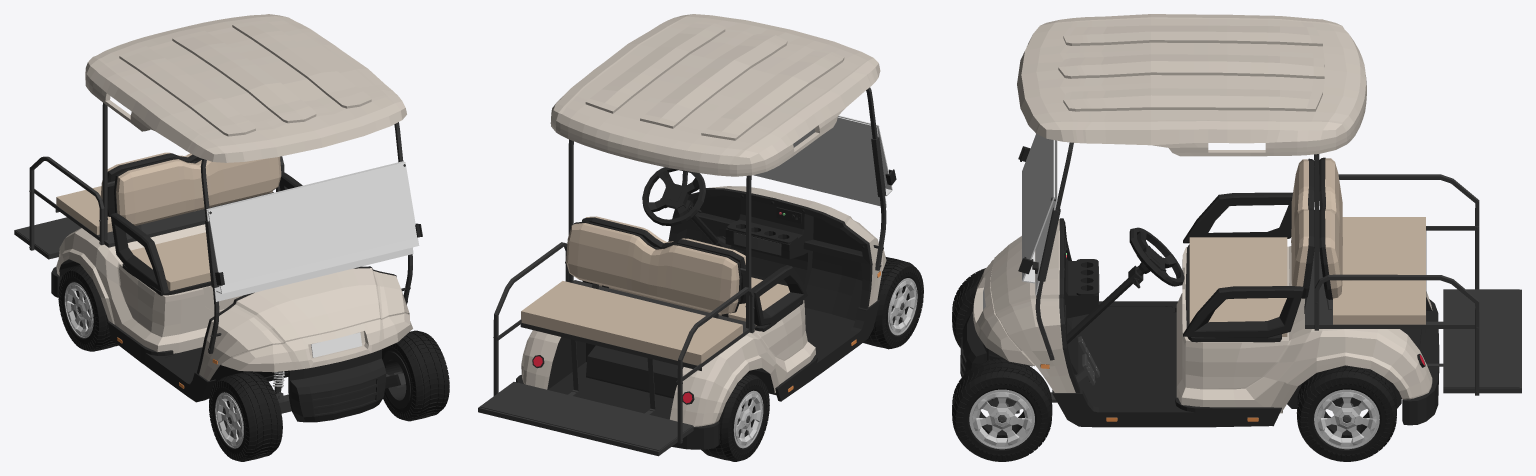
File: Electric_Cart.fbx
3 views of the same model, side by side, from view 1: azimuth 30°, elevation 25°; view 2: azimuth 150°, elevation 25°; view 3: azimuth 270°, elevation 25° (orthographic). The views are drawn at different scales.
Parts seen in each view (by area): view 1: Golf Cart, Wheels_1, Wheels_2; view 2: Golf Cart, Wheels_1, Wheels_2; view 3: Golf Cart, Wheels_1, Wheels_2.
Part boxes in pixels (x1=…): Golf Cart: x1=14, y1=14, x2=422, y2=422; Wheels_1: x1=209, y1=330, x2=449, y2=461; Wheels_2: x1=58, y1=265, x2=118, y2=351; Golf Cart: x1=478, y1=14, x2=896, y2=456; Wheels_1: x1=863, y1=257, x2=923, y2=349; Wheels_2: x1=701, y1=373, x2=769, y2=461; Golf Cart: x1=960, y1=14, x2=1521, y2=427; Wheels_1: x1=952, y1=268, x2=1052, y2=461; Wheels_2: x1=1296, y1=365, x2=1396, y2=461.
Bounding box in the file's own units: 21914 × 29043 × 43091.
